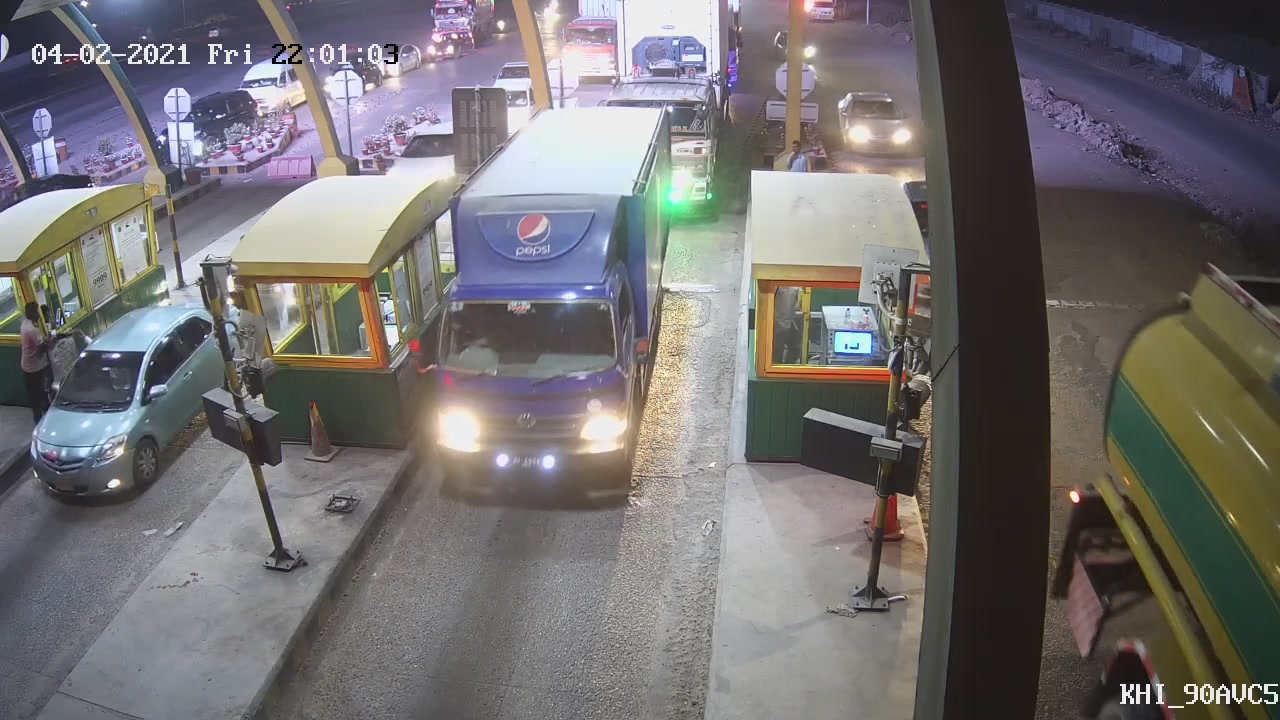F5: (427, 99, 693, 500)
